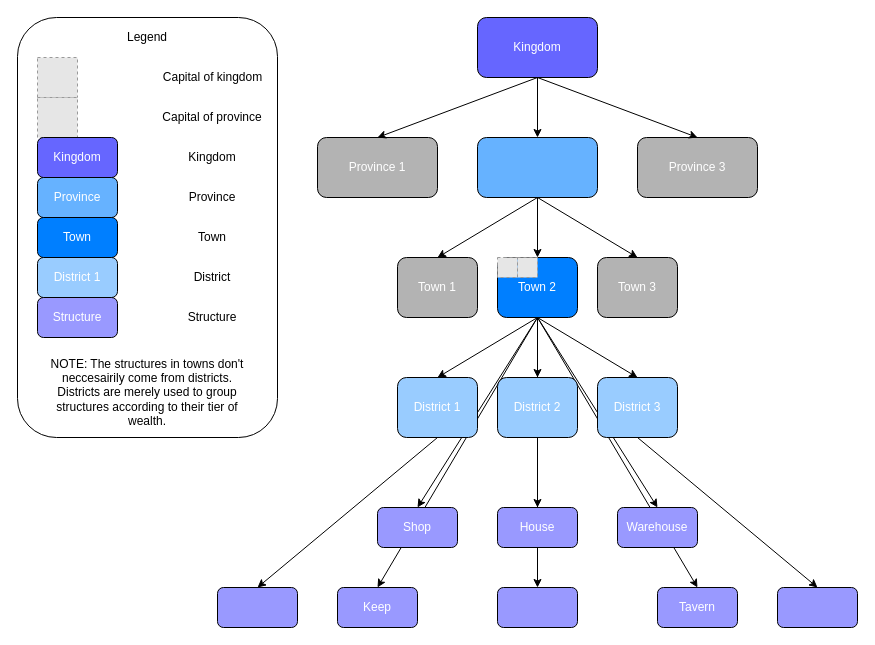
The diagram is 875 pixels wide and 645 high, and some of its shapes have lost their labels. Grey dashed boxes stand in for pictures. Each missing label, with the centre of its shape:
Gate: the point at 257,607
Non-functional: the point at 817,607
Province 2: the point at 537,167
Resource-Pr.: the point at 537,607
